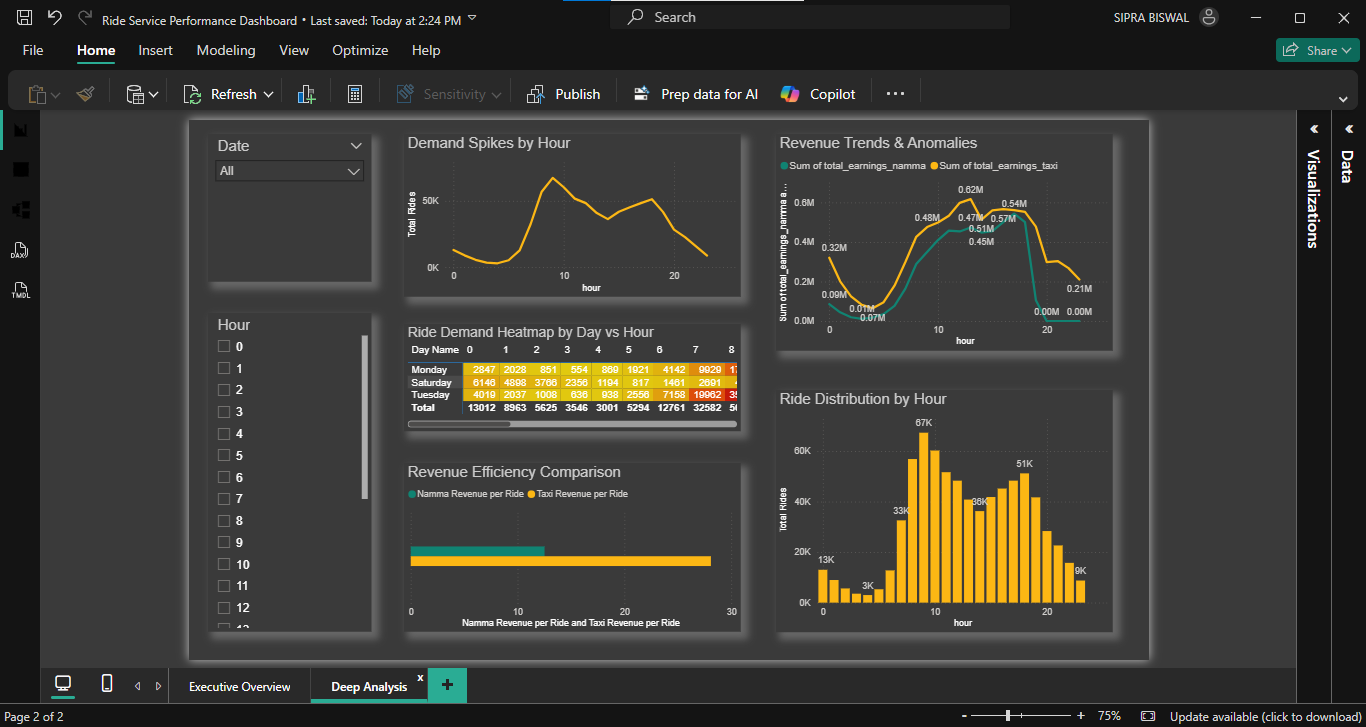

The dashboard page shown, as its layout file describes it:
{"tool":"powerbi","page":{"name":"Deep Analysis","canvas":[1280,720],"ordinal":1},"visuals":[{"type":"lineChart","title":"Demand Spikes by Hour","fields":{"Category":["ride_comparison.hour"],"Y":["ride_comparison.Total Rides"]},"box":[287.2,18.5,448.5,216.7],"z":0},{"type":"lineChart","title":"Revenue Trends & Anomalies","fields":{"Category":["ride_comparison.hour"],"Y":["Sum(ride_comparison.total_earnings_namma)","Sum(ride_comparison.total_earnings_taxi)"]},"box":[782.8,18.5,448.5,288.9],"z":1000},{"type":"clusteredBarChart","title":"Revenue Efficiency Comparison","fields":{"Y":["ride_comparison.Namma Revenue per Ride","ride_comparison.Taxi Revenue per Ride"]},"box":[287.2,456.9,448.5,225.1],"z":2000},{"type":"clusteredColumnChart","title":"Ride Distribution by Hour","fields":{"Category":["ride_comparison.hour"],"Y":["ride_comparison.Total Rides"]},"box":[782.8,359.5,448.5,322.5],"z":3000},{"type":"slicer","fields":{"Values":["ride_comparison.date"]},"box":[25.2,18.5,218.4,196.5],"z":4000},{"type":"slicer","fields":{"Values":["ride_comparison.hour"]},"box":[25.2,257,218.4,425],"z":5000},{"type":"pivotTable","title":"Ride Demand Heatmap by Day vs Hour","fields":{"Rows":["ride_comparison.Day Name"],"Columns":["ride_comparison.hour"],"Values":["ride_comparison.Total Rides"]},"box":[287.2,272.1,448.5,142.8],"z":6000}]}

Visuals, with their boxes on the page's 1280x720 design canvas (x1, y1, x2, y2). These are canvas units, not pixel positions in the 1366x727 screenshot, which may show the page scaled, cropped or inside an application window:
"Demand Spikes by Hour" lineChart: <bbox>287, 18, 736, 235</bbox>
"Revenue Trends & Anomalies" lineChart: <bbox>783, 18, 1231, 307</bbox>
"Revenue Efficiency Comparison" clusteredBarChart: <bbox>287, 457, 736, 682</bbox>
"Ride Distribution by Hour" clusteredColumnChart: <bbox>783, 360, 1231, 682</bbox>
slicer - ride_comparison.date: <bbox>25, 18, 244, 215</bbox>
slicer - ride_comparison.hour: <bbox>25, 257, 244, 682</bbox>
"Ride Demand Heatmap by Day vs Hour" pivotTable: <bbox>287, 272, 736, 415</bbox>
